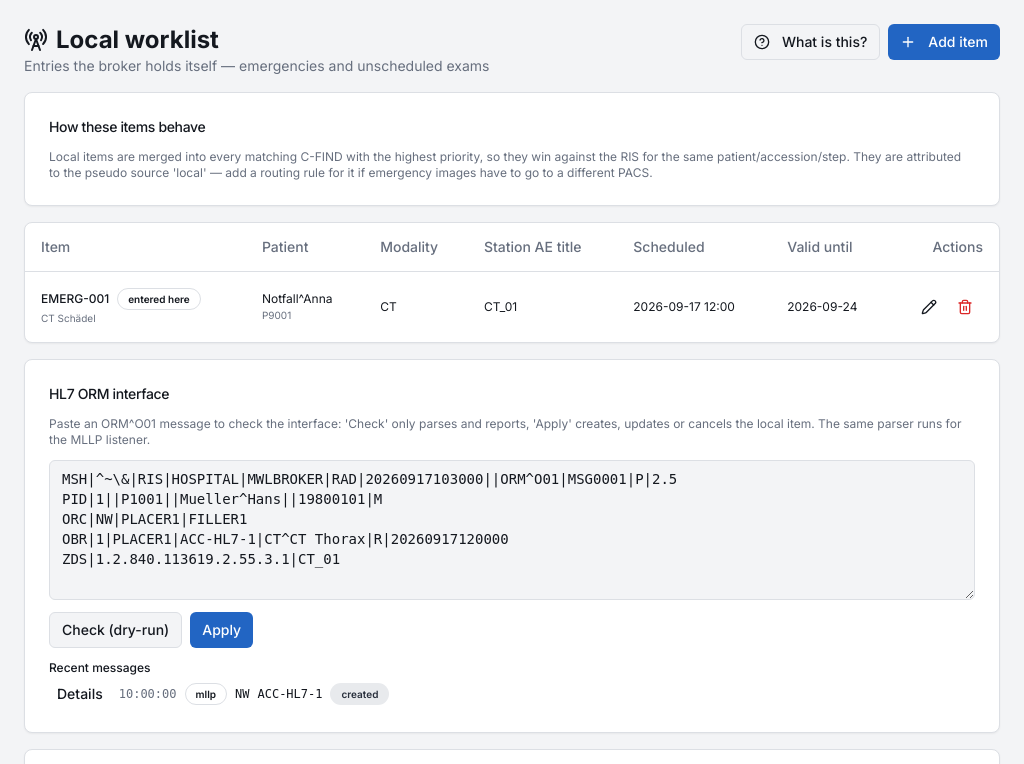
Scenario: LocalWorklistPage › applies an HL7 message
Expected: the text "EMERG-001" is shown, [41, 290, 109, 306]
Click the button "Apply" at (222, 630), box [190, 612, 253, 648]
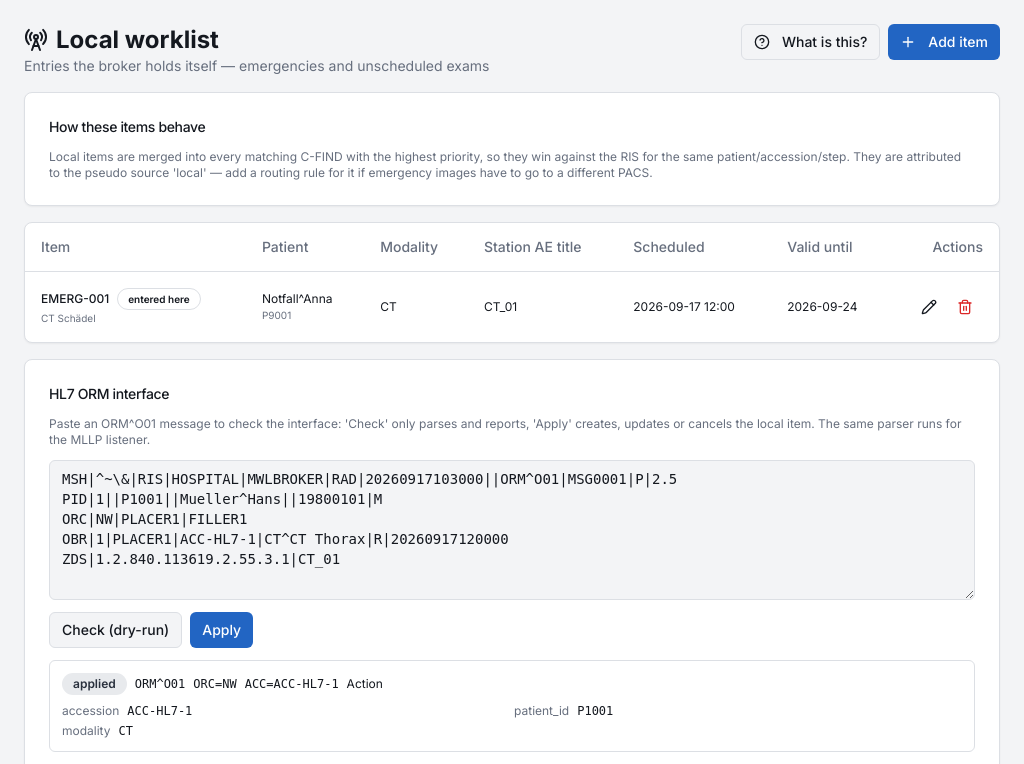
Expected: the element with test id "broker-hl7-result" shows "applied", [73, 676, 116, 690]
